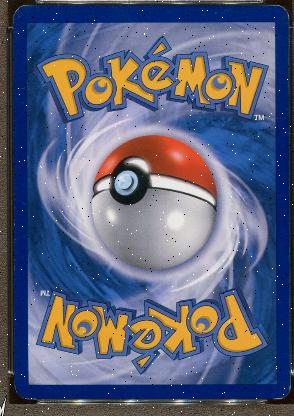Card: (11, 3, 291, 402)
Corner Wear: (13, 380, 38, 400), (11, 4, 31, 24), (269, 4, 290, 21), (269, 384, 290, 400)
Edge Wear: (12, 184, 15, 274)
Scratch: (22, 200, 26, 206)
